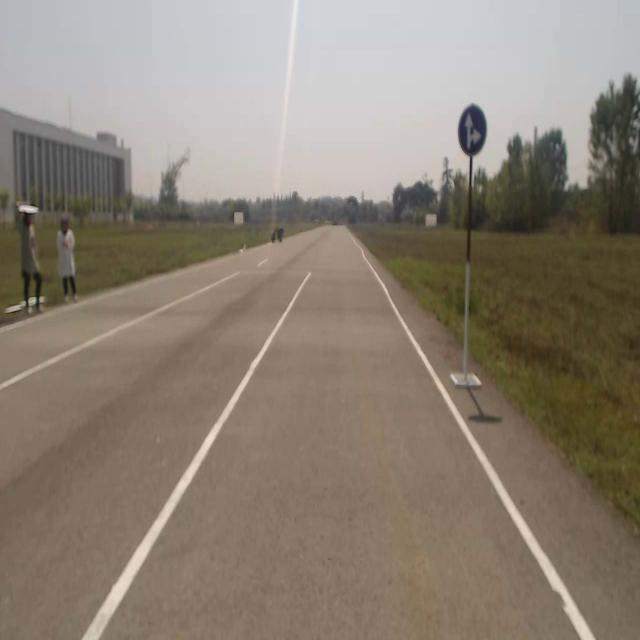ilerisag: (458, 105, 487, 155)
